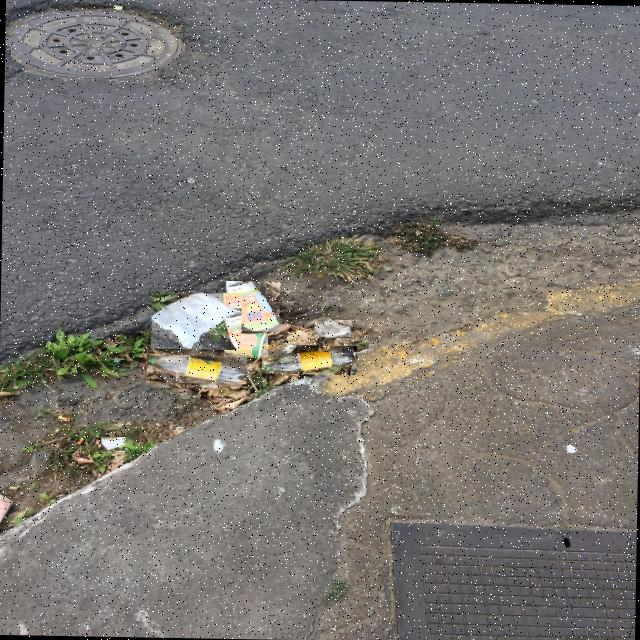Cigarette: (77, 438, 84, 445), (58, 416, 70, 420), (96, 438, 100, 444)
Clear plastic bottle: (146, 354, 246, 384), (261, 346, 356, 373)
Drink carton: (227, 281, 279, 331)
Paper cup: (224, 334, 268, 357)
Plastic film: (151, 292, 240, 349), (315, 320, 351, 336)
Unlabeled litter: (97, 438, 125, 450)
